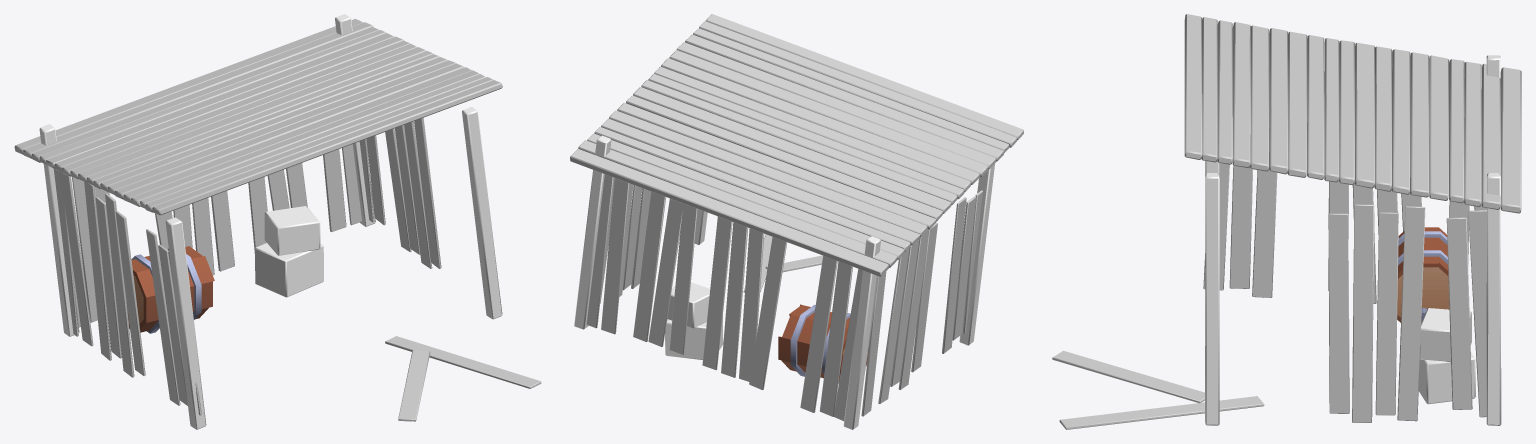
The model's file is schuppen_ruine.glb.
The picture shows the model from 3 angles, left to right: view 1: azimuth 30°, elevation 25°; view 2: azimuth 150°, elevation 25°; view 3: azimuth 270°, elevation 25°; orthographic projection. The views are drawn at different scales.
Parts seen in each view (by area): view 1: schuppen_ruine_netz, barrel2_netz; view 2: schuppen_ruine_netz, barrel2_netz; view 3: schuppen_ruine_netz, barrel2_netz.
Boxes of the visible parts, x1,y1,x2,y2 form: schuppen_ruine_netz: (14, 14, 541, 429); barrel2_netz: (126, 246, 214, 333); schuppen_ruine_netz: (570, 14, 1023, 429); barrel2_netz: (778, 304, 868, 383); schuppen_ruine_netz: (1052, 14, 1521, 429); barrel2_netz: (1397, 227, 1449, 323).
Size of what is drawn, in the model's own units: 4.5 by 3.44 by 4.66.
4 materials, 1 textured.
